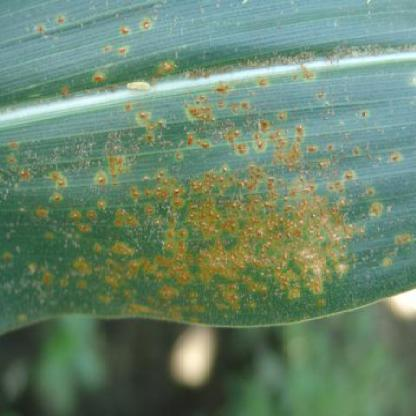Corn rust leaf: (1, 1, 415, 342)
